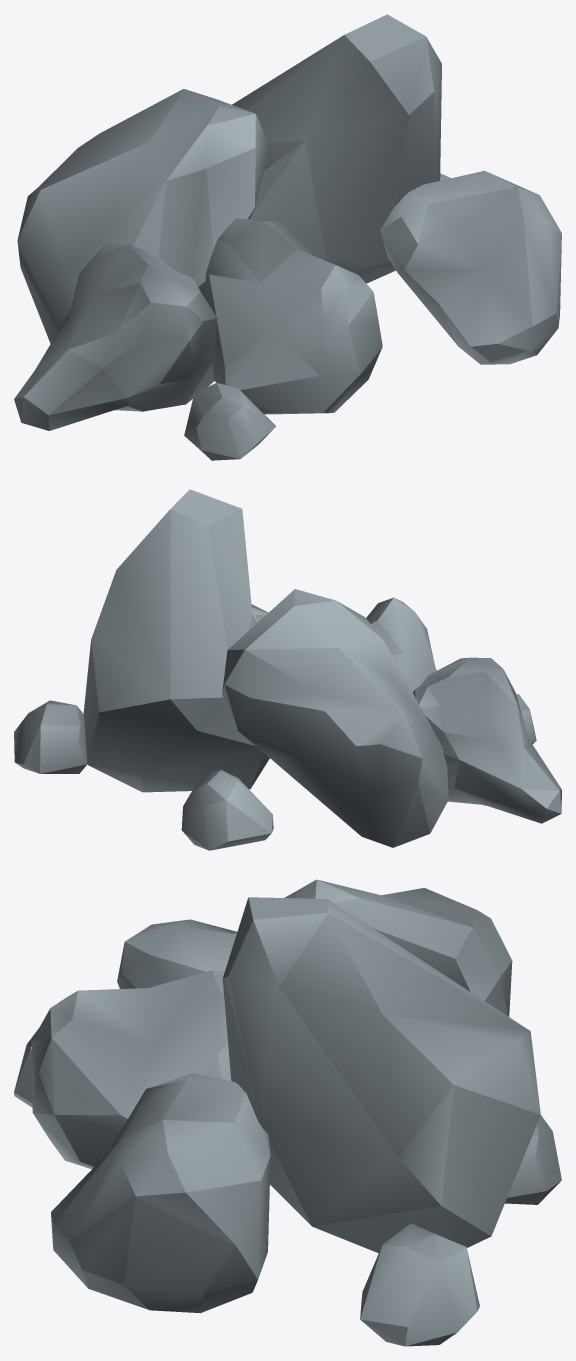
Rendered from stone-chunks-small.glb.
The picture shows the model from 3 angles, top to bottom: view 1: azimuth 30°, elevation 25°; view 2: azimuth 150°, elevation 25°; view 3: azimuth 270°, elevation 25°; orthographic projection. The views are drawn at different scales.
Visible parts, largest first — view 1: Stone_Chunks_Small; view 2: Stone_Chunks_Small; view 3: Stone_Chunks_Small.
Part boxes in pixels (x1,y1,x2,y2): Stone_Chunks_Small: (14,14,561,460); Stone_Chunks_Small: (14,489,561,850); Stone_Chunks_Small: (14,879,561,1346).
Bounding box in the file's own units: 1.12 × 0.5792 × 0.7861.
1 material, 1 textured.
